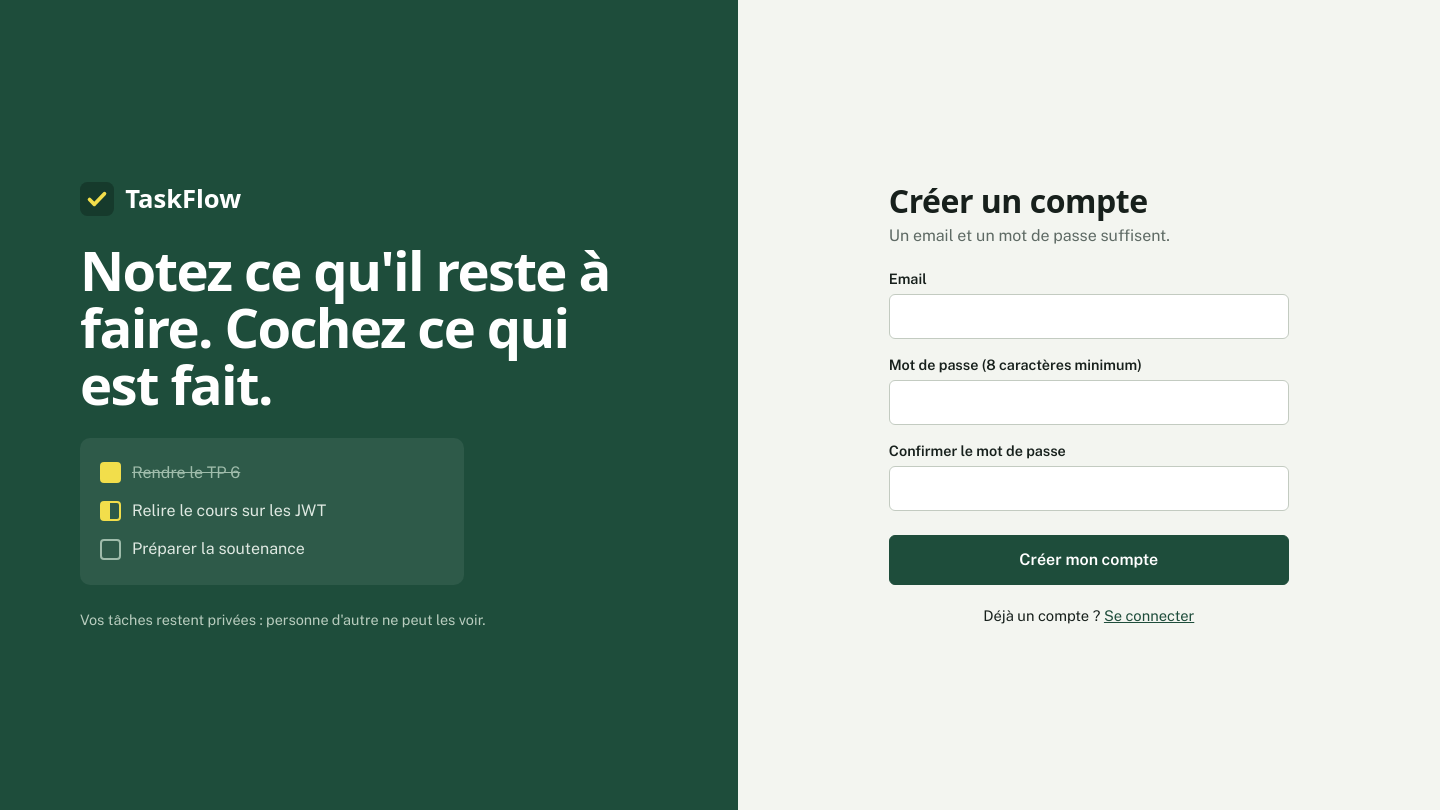
Scenario: authentification dans React › inscription : mots de passe différents refusés avant tout appel
Type "alice@example.test" into the field labelled "Email". click: x=1089, y=317
box: [889,294,1289,339]
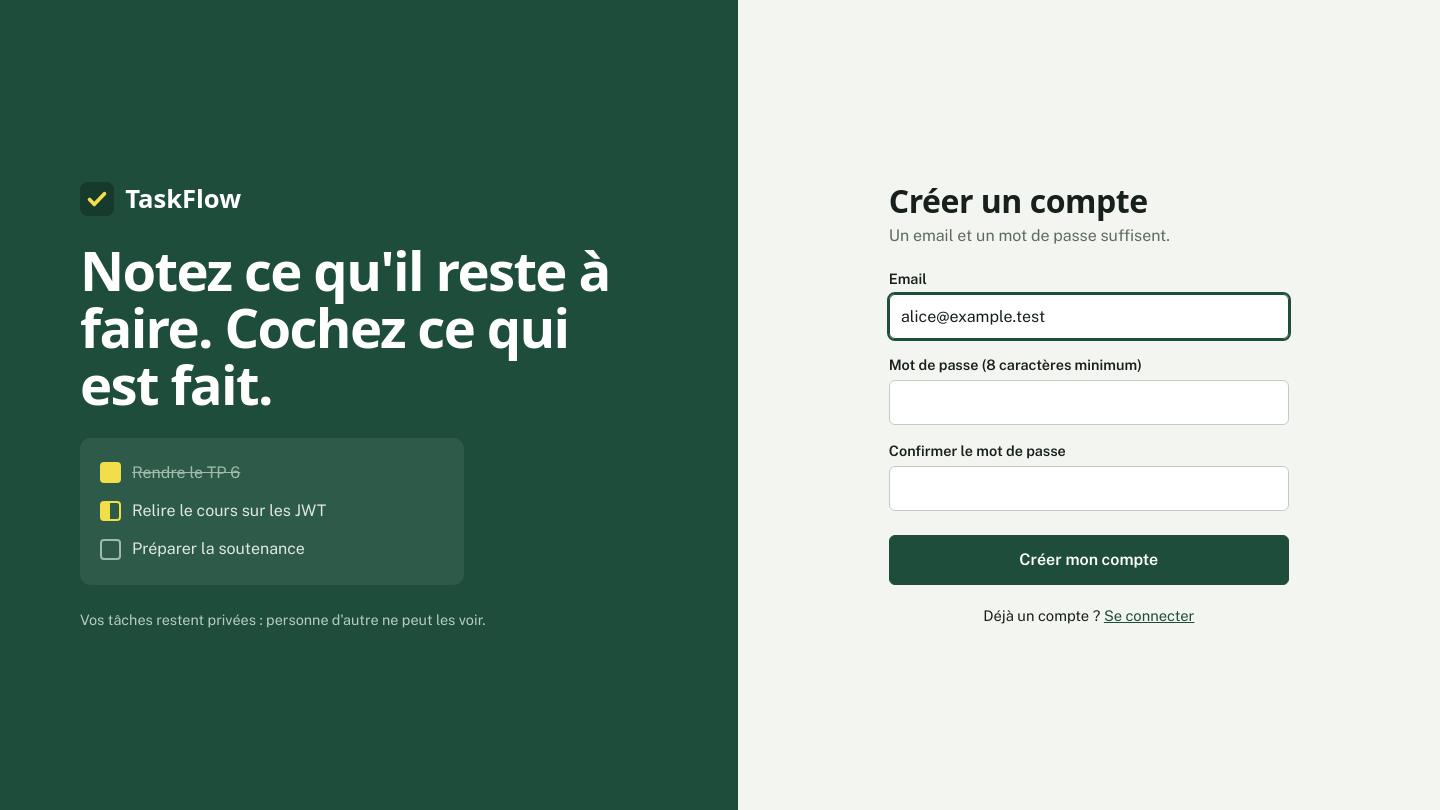
Type "MotDePasse123!" into the password field labelled "Mot de passe (8 caractères minimum)". click: x=1089, y=403
box: [889,380,1289,425]
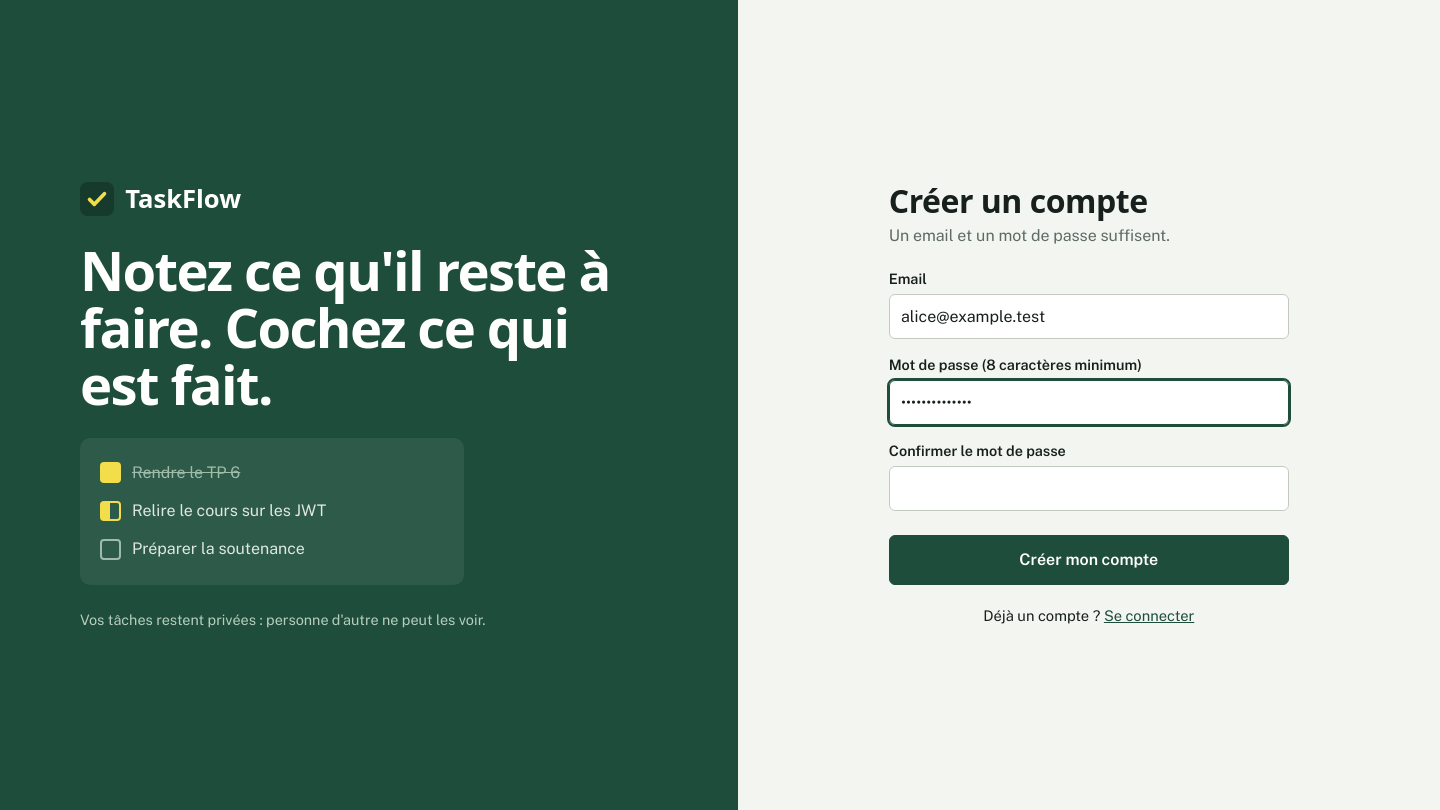
Type "Autre123!" into the password field labelled "Confirmer le mot de passe". click: x=1089, y=489
box: [889,466,1289,511]
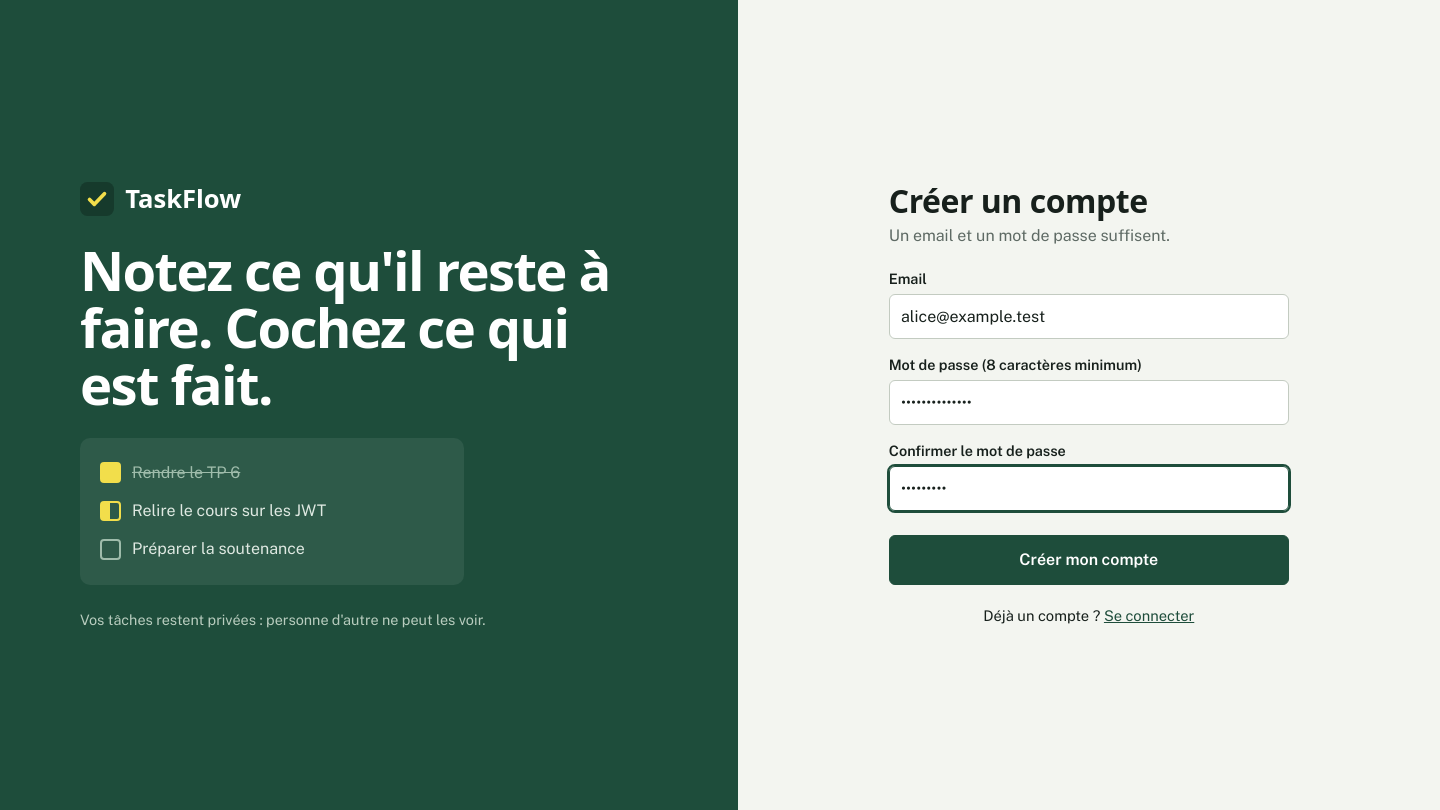
Click the button "Créer mon compte". click: x=1089, y=560
box: [889,535,1289,585]
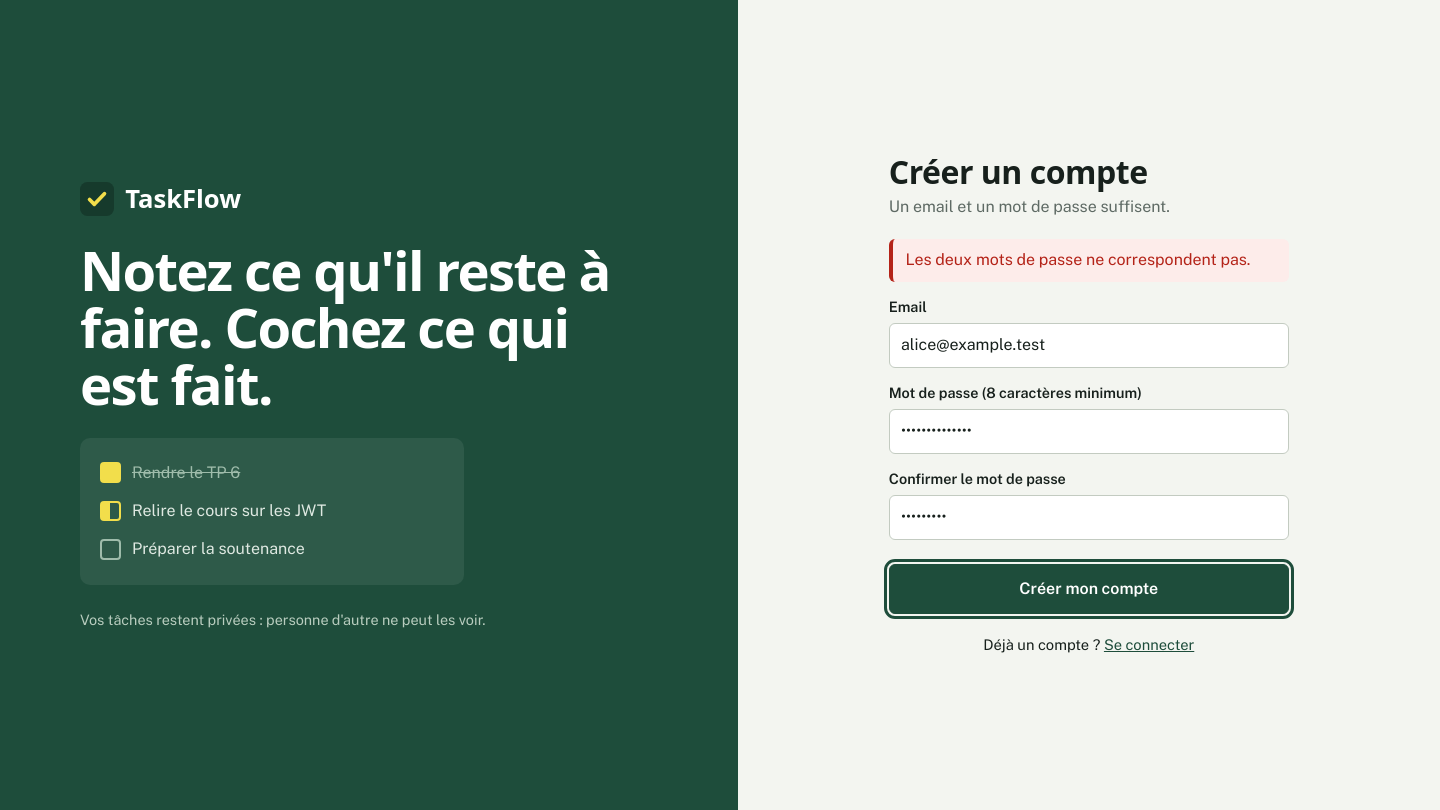
Expected: the message shows "ne correspondent pas", [906,250,1250,269]
